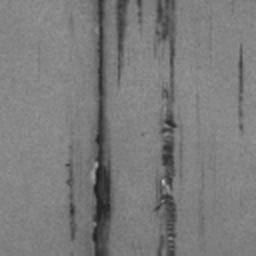Slag inclusion: (152, 0, 182, 253), (90, 0, 114, 256), (114, 0, 131, 87), (64, 142, 78, 242), (238, 42, 244, 136), (136, 0, 145, 32)
